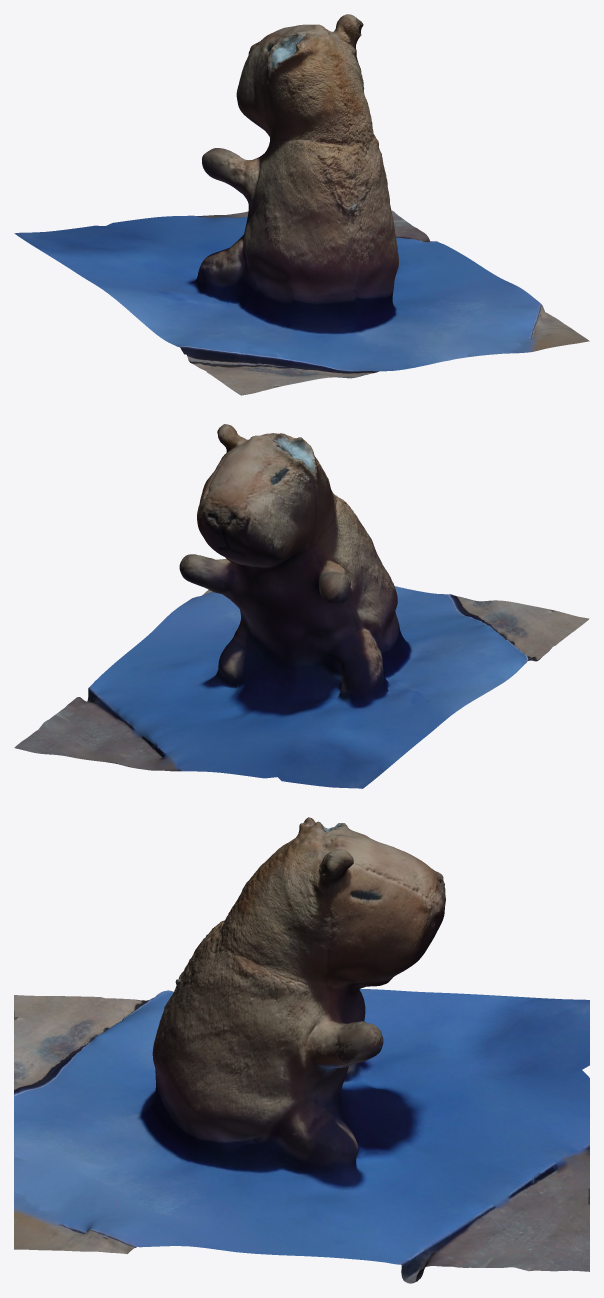
Rendered from Capi.glb.
3 renders of one model, top to bottom at view 1: azimuth 30°, elevation 25°; view 2: azimuth 150°, elevation 25°; view 3: azimuth 270°, elevation 25°, orthographic. The views are drawn at different scales.
Parts seen in each view (by area): view 1: Node1; view 2: Node1; view 3: Node1.
Part boxes in pixels (box(x1,y1,x2,y2)): Node1: box(14, 14, 589, 395); Node1: box(14, 424, 589, 788); Node1: box(14, 817, 589, 1283).
Size of the model in its own units: 1.09 by 0.8568 by 1.23.
1 material, 1 textured.
